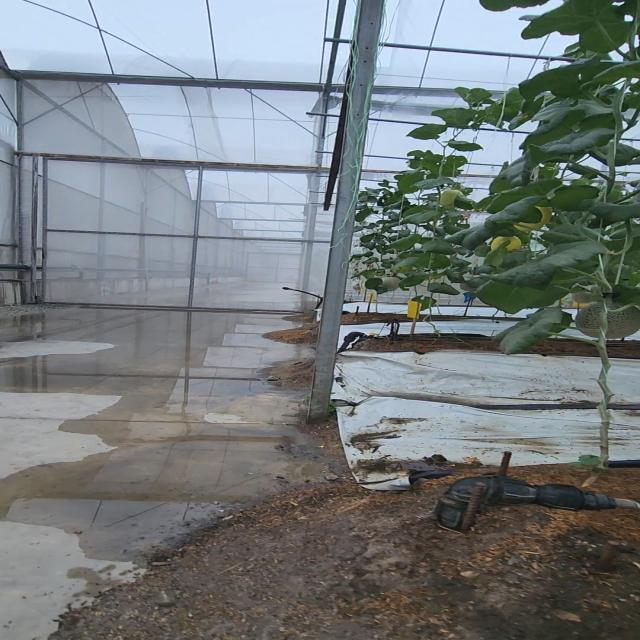Rear-melon: (573, 302, 640, 339)
